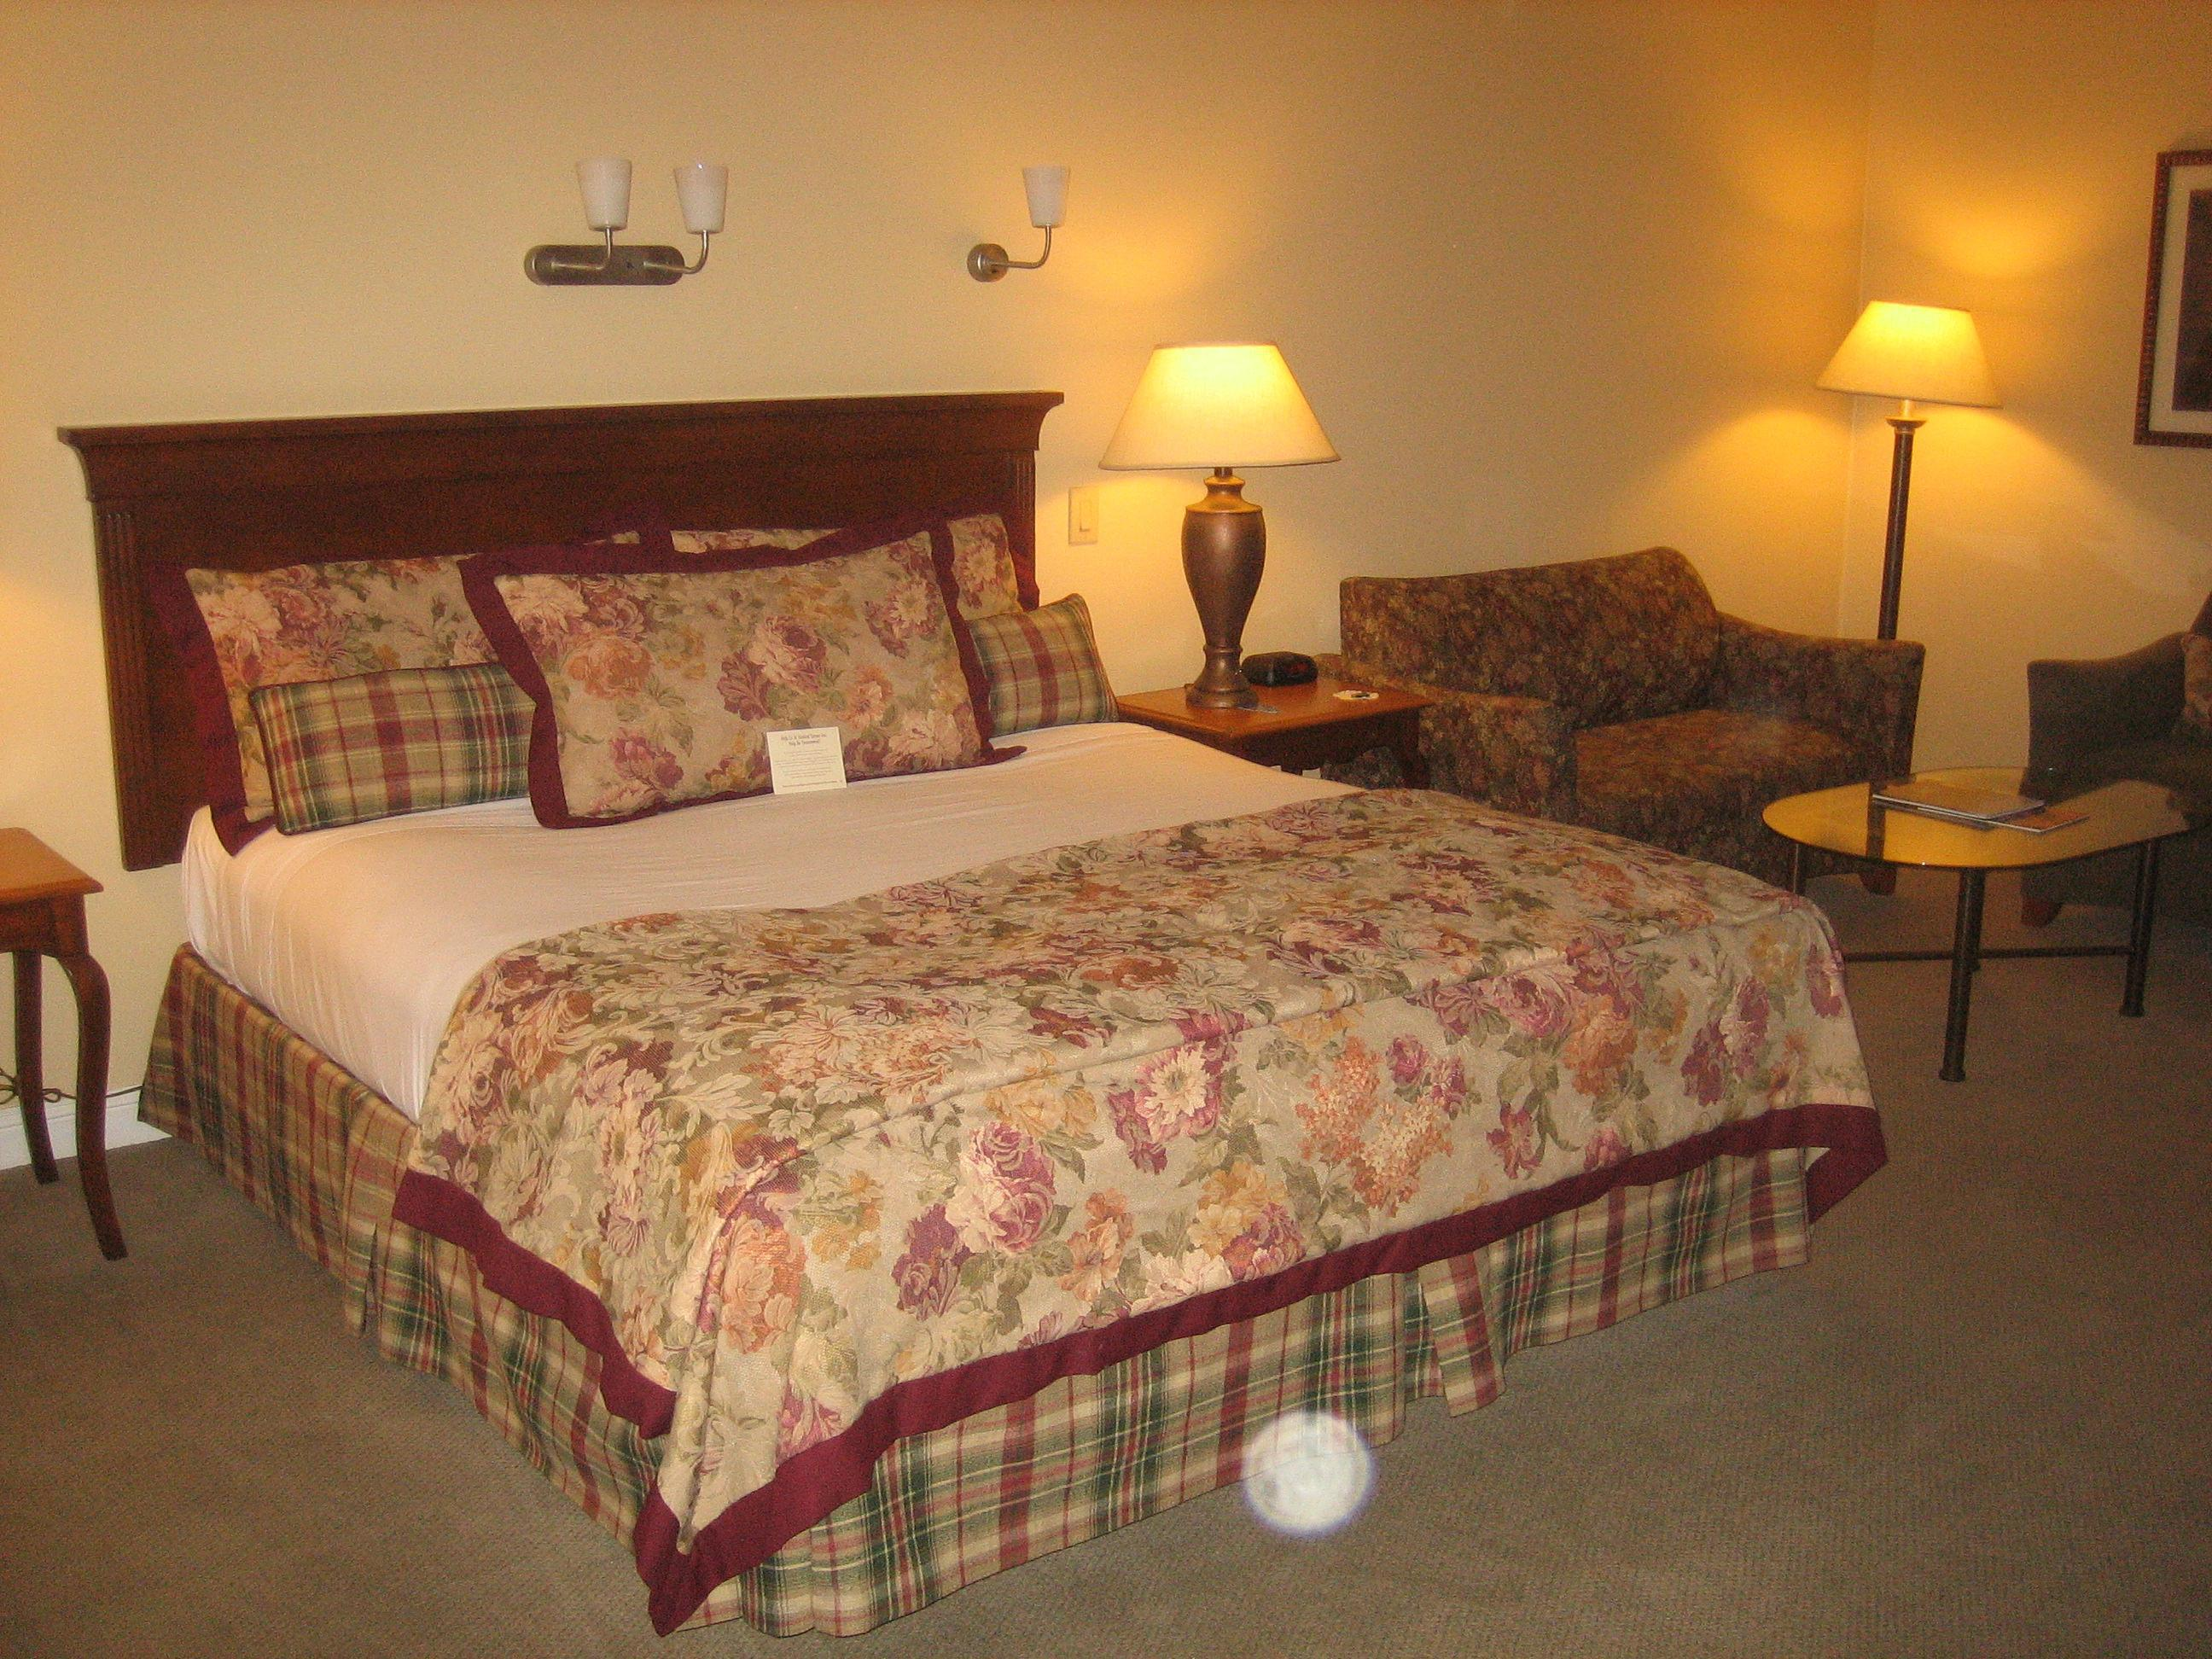Cama: (89, 420, 1848, 1610)
